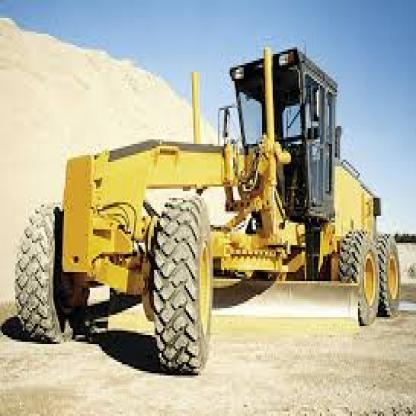bull_dozer/loader/grader: (12, 34, 415, 373)
